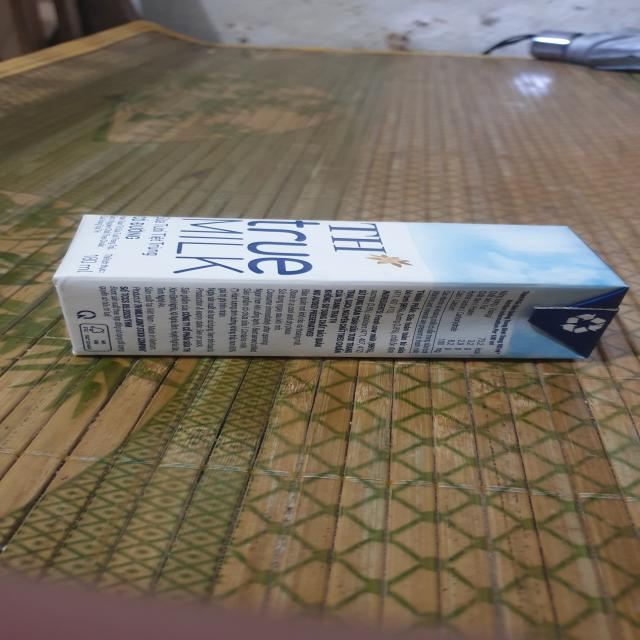TH: (49, 208, 633, 367)
